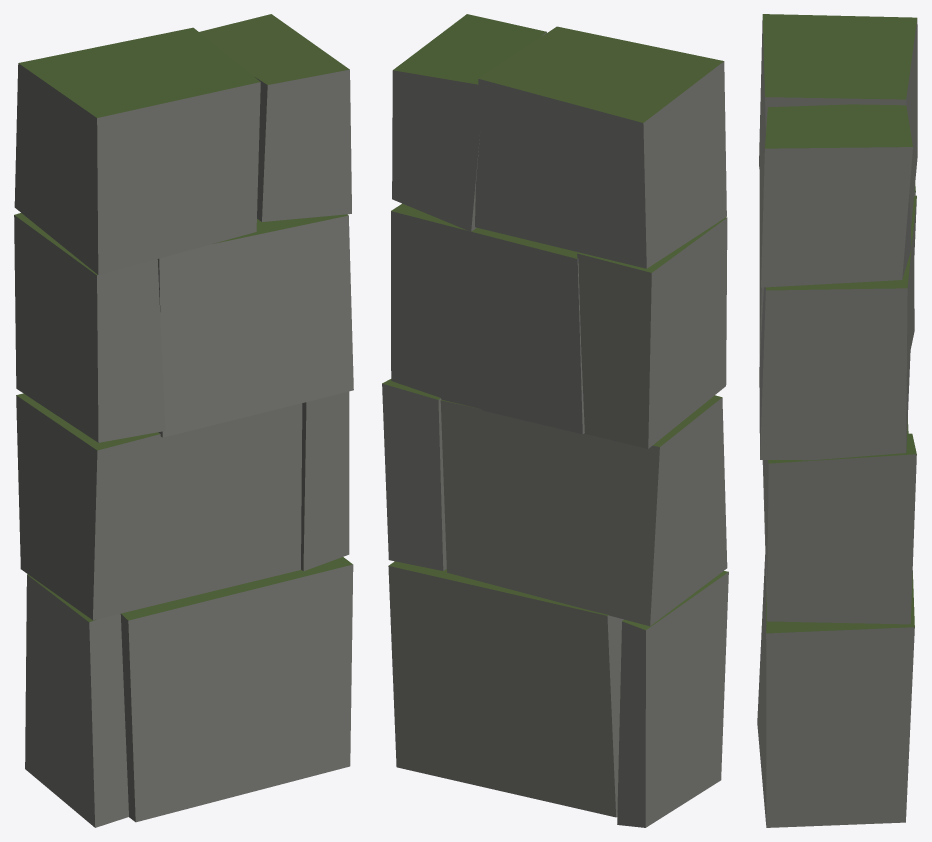
Rendered from WallSpan.fbx.
3 renders of one model, left to right at view 1: azimuth 30°, elevation 25°; view 2: azimuth 150°, elevation 25°; view 3: azimuth 270°, elevation 25°, orthographic. The views are drawn at different scales.
Visible parts, largest first — view 1: WallSpan; view 2: WallSpan; view 3: WallSpan.
Part boxes in pixels (box(x1,y1,x2,y2)): WallSpan: box(14, 14, 353, 827); WallSpan: box(382, 14, 728, 827); WallSpan: box(757, 14, 917, 827).
Bounding box in the file's own units: 1.04 × 2.62 × 0.5497.
